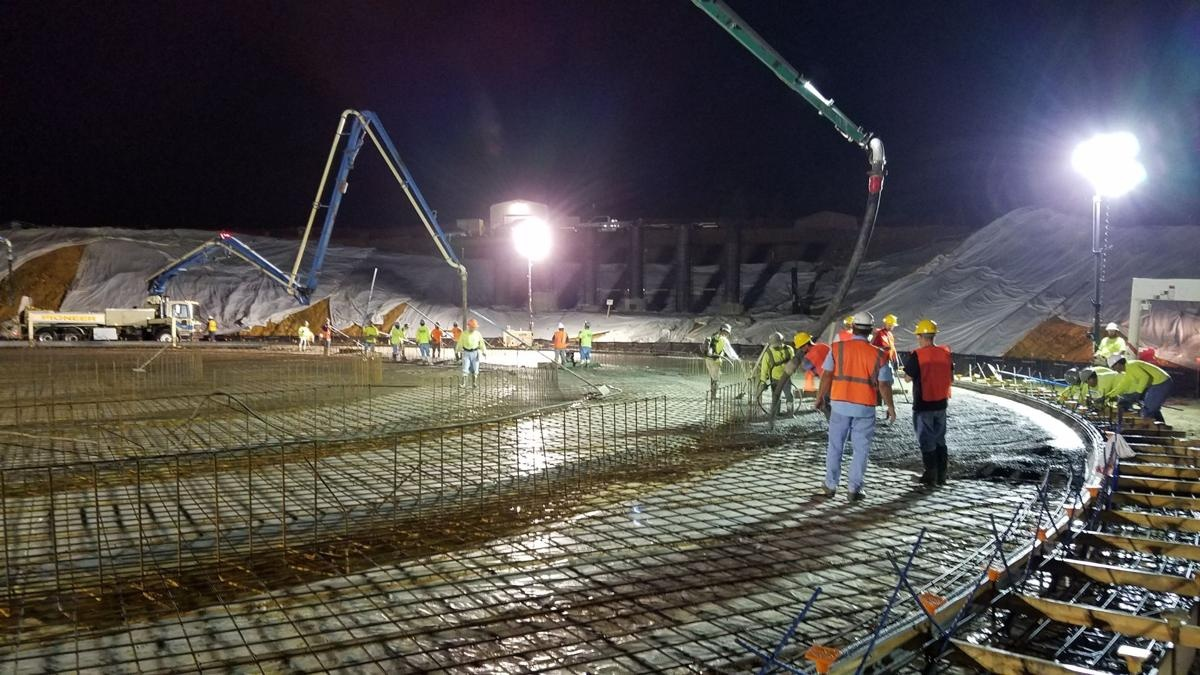white: (849, 312, 876, 338), (767, 331, 787, 352), (1108, 353, 1127, 374), (1080, 366, 1098, 388), (1064, 367, 1083, 386), (1103, 319, 1119, 338), (717, 321, 731, 336), (555, 321, 565, 333)
yellow: (912, 317, 939, 348), (792, 329, 814, 353), (881, 313, 898, 332), (465, 317, 478, 333)
